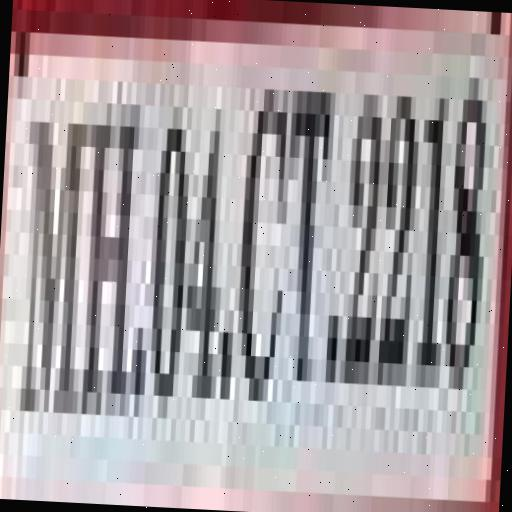number plate: (0, 9, 495, 512)
